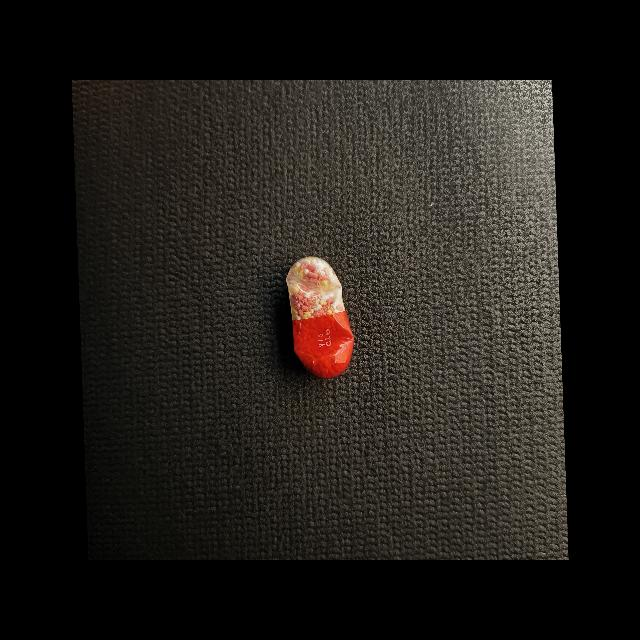Defective Capsule: (286, 256, 354, 379)
